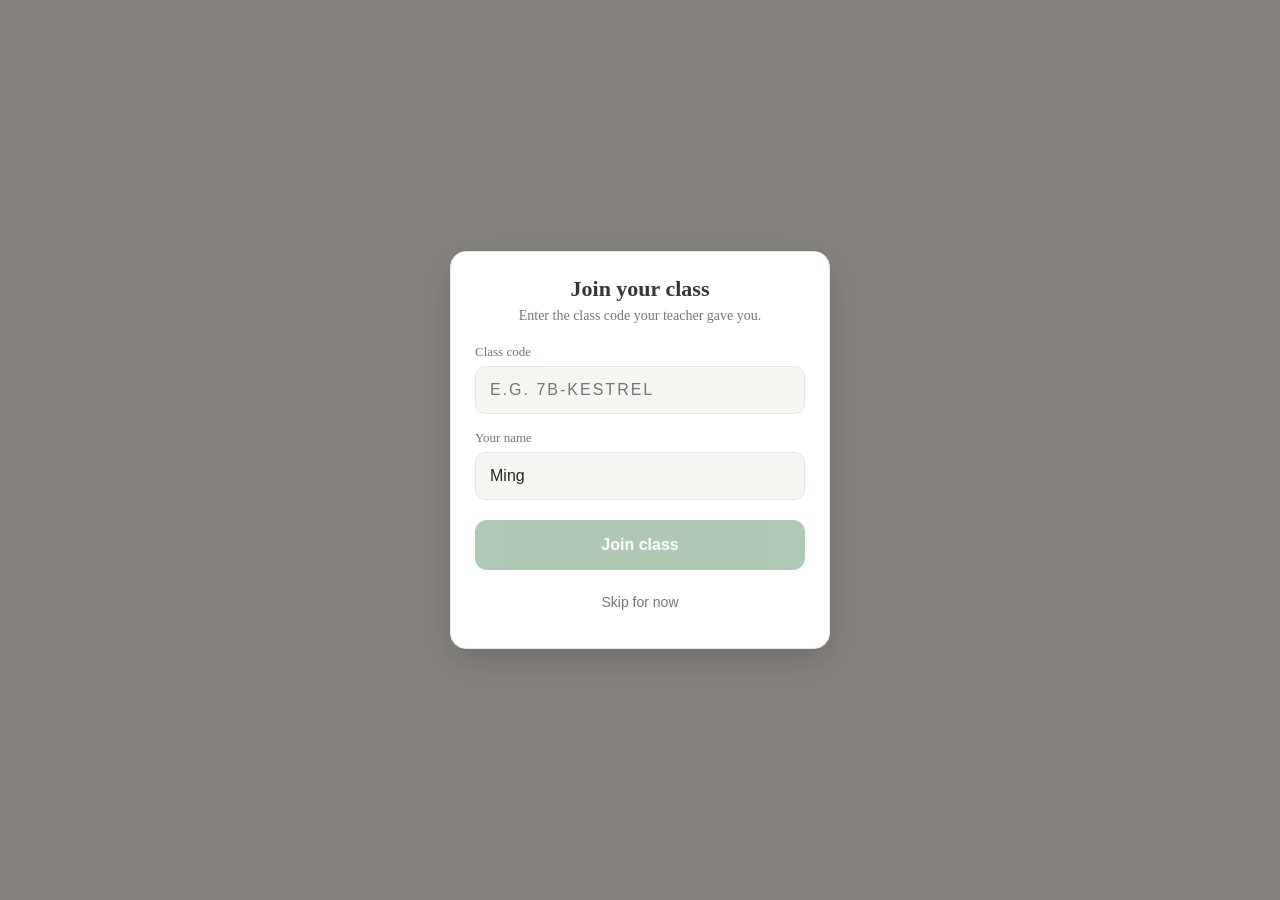
Test: EnrolOverlay — enrol flow › never-stuck: a rejected code shows an honest, retryable error and stays on the form
Step 1. Type "NOPE" into the field with id "enrol-code" → {"x": 640, "y": 390}, box [475,366,805,414]
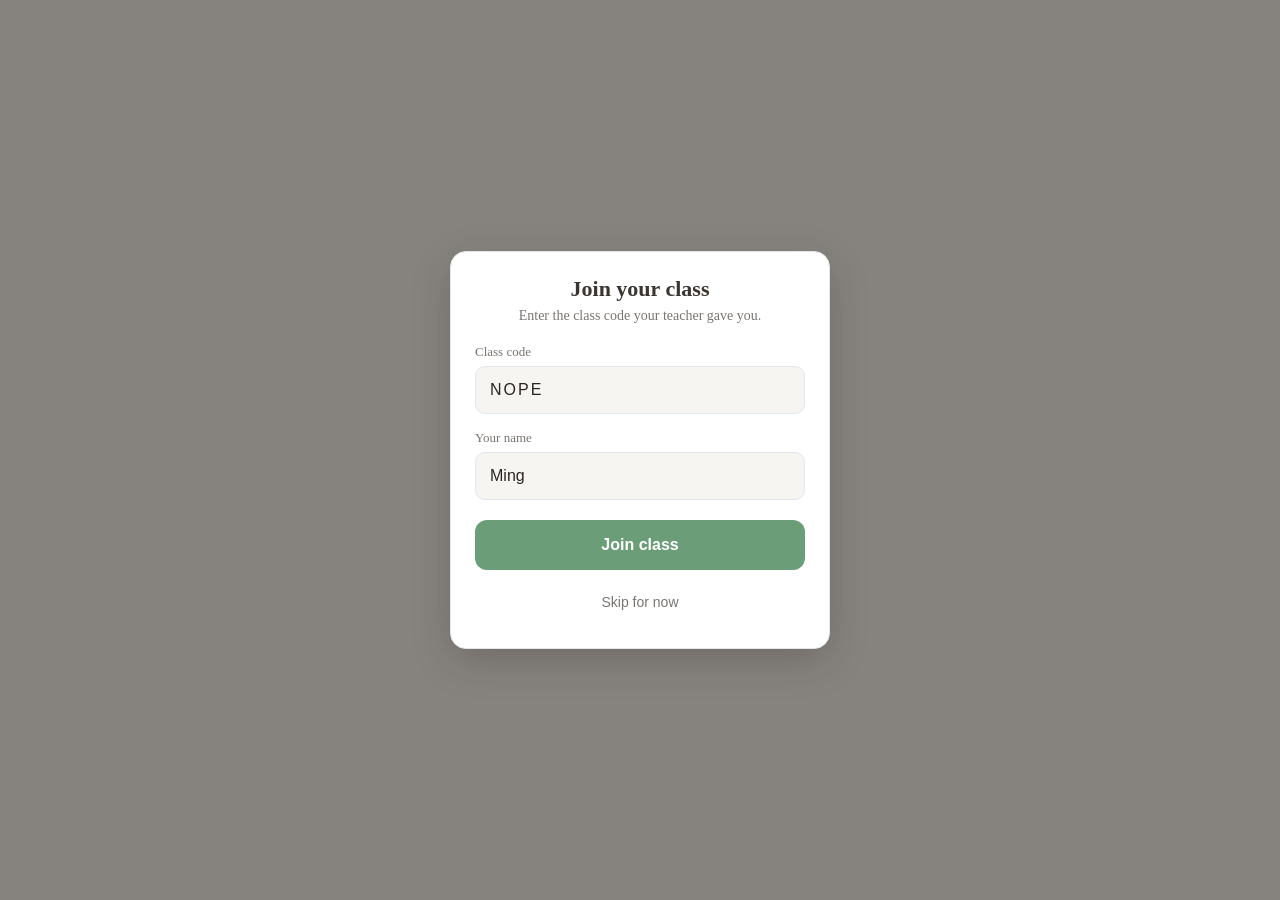
Step 2. Click the button "Join class" → {"x": 640, "y": 545}, box [475,520,805,570]
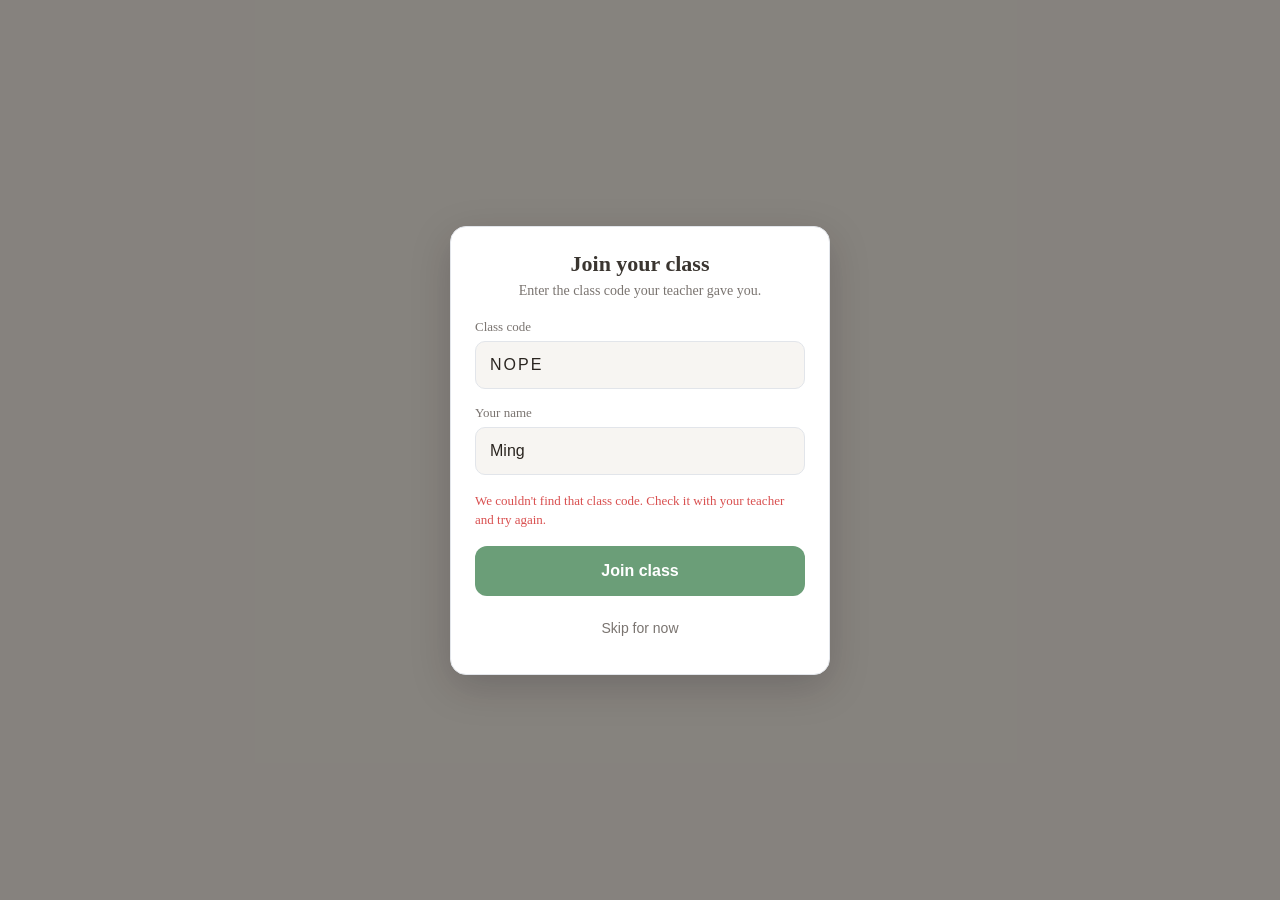
Expected: the text "couldn't find that class code" is shown, [475,492,784,527]
